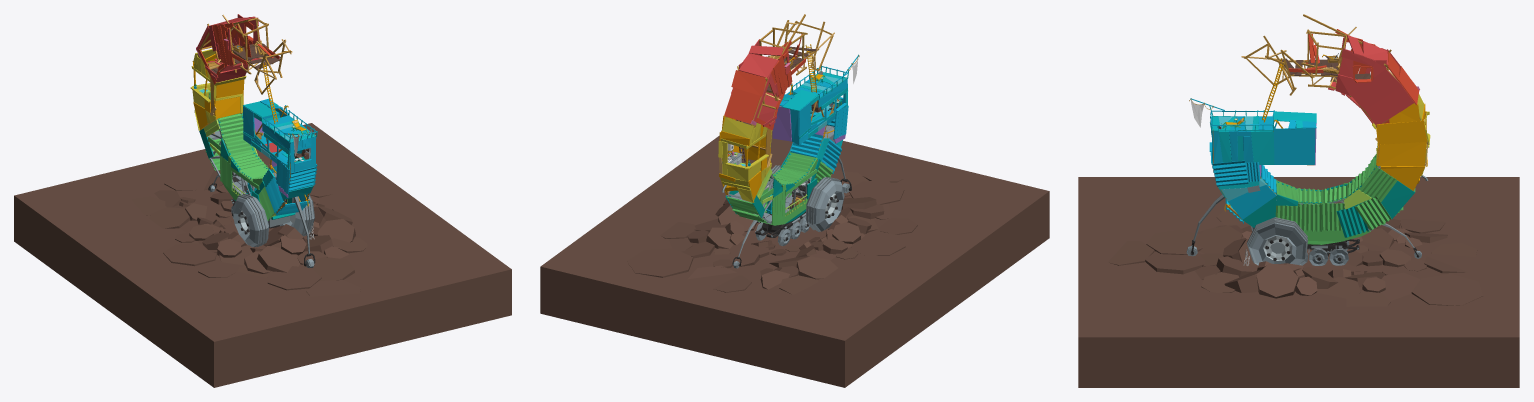
Rendered from GBP.glb.
3 views of the same model, side by side, from view 1: azimuth 30°, elevation 25°; view 2: azimuth 150°, elevation 25°; view 3: azimuth 270°, elevation 25° (orthographic). The views are drawn at different scales.
Visible parts, largest first — view 1: Object_14, Object_21, Object_3, Object_9, Object_12, Object_6, Object_20, Object_23, Object_10, Object_7, Object_5, Object_4; view 2: Object_14, Object_21, Object_3, Object_7, Object_9, Object_5, Object_23, Object_12, Object_20, Object_6, Object_10, Object_4 (+2 smaller); view 3: Object_14, Object_21, Object_3, Object_23, Object_6, Object_20, Object_4, Object_9, Object_12, Object_10, Object_7, Object_17 (+2 smaller).
Boxes of the visible parts, x1,y1,x2,y2 form: Object_14: (14, 43, 511, 387); Object_21: (194, 86, 317, 215); Object_3: (194, 83, 308, 220); Object_9: (207, 47, 314, 267); Object_12: (197, 17, 315, 212); Object_6: (192, 47, 308, 206); Object_20: (243, 101, 317, 200); Object_23: (196, 14, 279, 152); Object_10: (209, 43, 314, 267); Object_7: (198, 20, 305, 157); Object_5: (190, 48, 305, 157); Object_4: (199, 113, 309, 219); Object_14: (540, 46, 1049, 387); Object_21: (748, 54, 858, 212); Object_3: (726, 74, 841, 225); Object_7: (724, 34, 805, 155); Object_9: (722, 61, 849, 268); Object_5: (718, 117, 804, 202); Object_23: (730, 39, 791, 126); Object_12: (724, 14, 859, 205); Object_20: (729, 65, 849, 213); Object_6: (719, 44, 834, 200); Object_10: (724, 62, 850, 267); Object_4: (725, 76, 842, 223); Object_14: (1078, 55, 1519, 387); Object_21: (1190, 98, 1316, 223); Object_3: (1222, 117, 1415, 244); Object_23: (1328, 35, 1416, 125); Object_6: (1224, 54, 1427, 211); Object_20: (1209, 105, 1316, 197); Object_4: (1223, 119, 1414, 237); Object_9: (1186, 57, 1428, 265); Object_12: (1189, 14, 1428, 220); Object_10: (1187, 53, 1422, 265); Object_7: (1288, 29, 1419, 123); Object_17: (1190, 55, 1419, 261).
Size of the model in its own units: 31.91 by 26.67 by 37.14.
